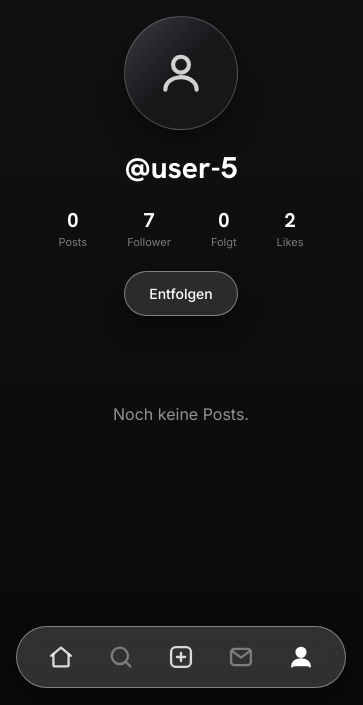
Scenario: ProfilePage › shows the follower count and bumps it optimistically with the follow toggle
expect the text "@user-5" is shown: met, box [124,148,237,187]
expect the text "7" is shown: met, box [143,207,155,233]
Note: Unfollow → the count drops by one immediately (optimistic)…
Click the button "Entfolgen". click: [181, 294]
box: [124,271,238,316]
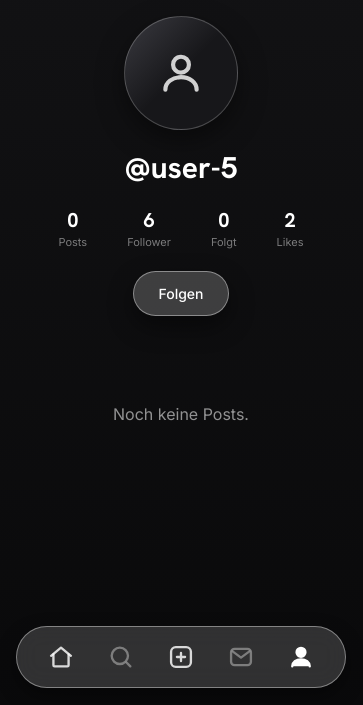
expect the text "6" is shown: met, box [143,207,155,233]
Note: …and re-following restores the server number, not 8.
Click the button "Folgen". click: [181, 294]
box: [134,271,229,316]
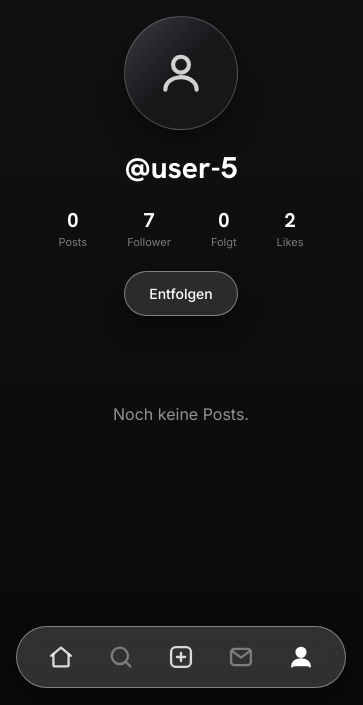
expect the text "7" is shown: met, box [143,207,155,233]
